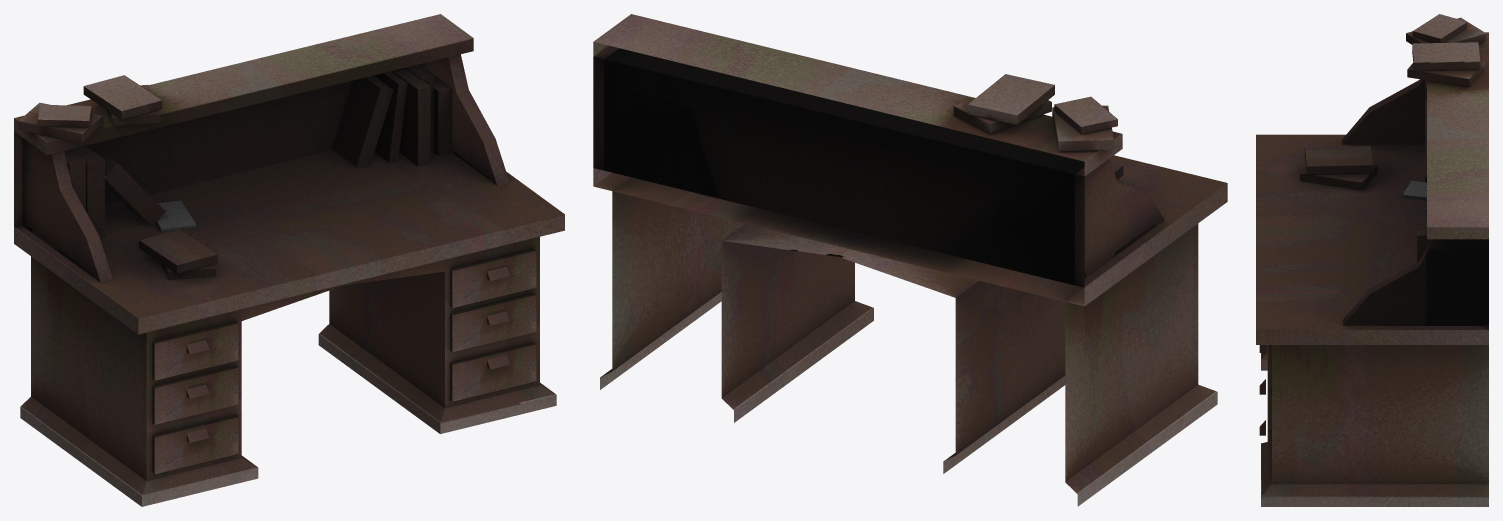
File: OfficeDesk.fbx
3 views of the same model, side by side, from view 1: azimuth 30°, elevation 25°; view 2: azimuth 150°, elevation 25°; view 3: azimuth 270°, elevation 25° (orthographic). The views are drawn at different scales.
Parts seen in each view (by area): view 1: office_Table; view 2: office_Table; view 3: office_Table.
Boxes of the visible parts, x1=… form: office_Table: x1=14, y1=14, x2=564, y2=506; office_Table: x1=593, y1=14, x2=1227, y2=506; office_Table: x1=1256, y1=14, x2=1488, y2=506.
Bounding box in the file's own units: 0.0441 × 0.031 × 0.0217.
